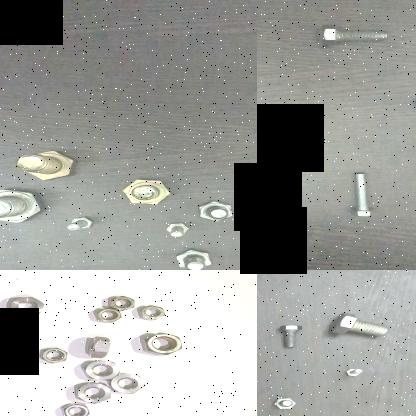Bolts: (304, 17, 395, 54), (10, 147, 86, 184), (335, 167, 380, 223), (325, 308, 389, 340), (257, 116, 290, 177), (0, 186, 50, 226), (119, 178, 178, 210), (272, 322, 308, 352), (194, 200, 237, 224), (54, 214, 98, 236), (152, 221, 192, 241), (174, 251, 213, 270), (270, 394, 297, 412), (341, 366, 363, 378)
NUTS: (65, 380, 113, 406), (142, 330, 184, 356), (78, 358, 118, 384), (3, 293, 45, 317), (108, 372, 146, 396), (106, 293, 142, 315), (84, 334, 112, 362), (134, 302, 168, 323), (32, 348, 70, 366), (90, 306, 122, 324), (56, 401, 90, 416)
